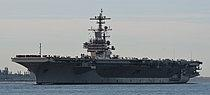MIL_Ship: (10, 8, 203, 86)
